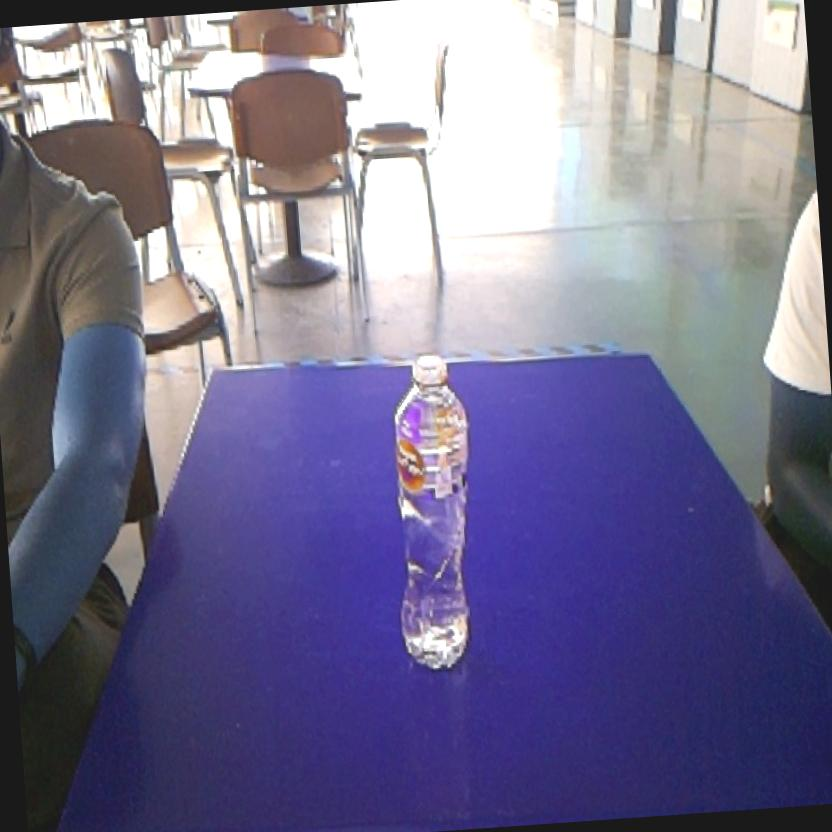no_cap: (374, 338, 492, 686)
